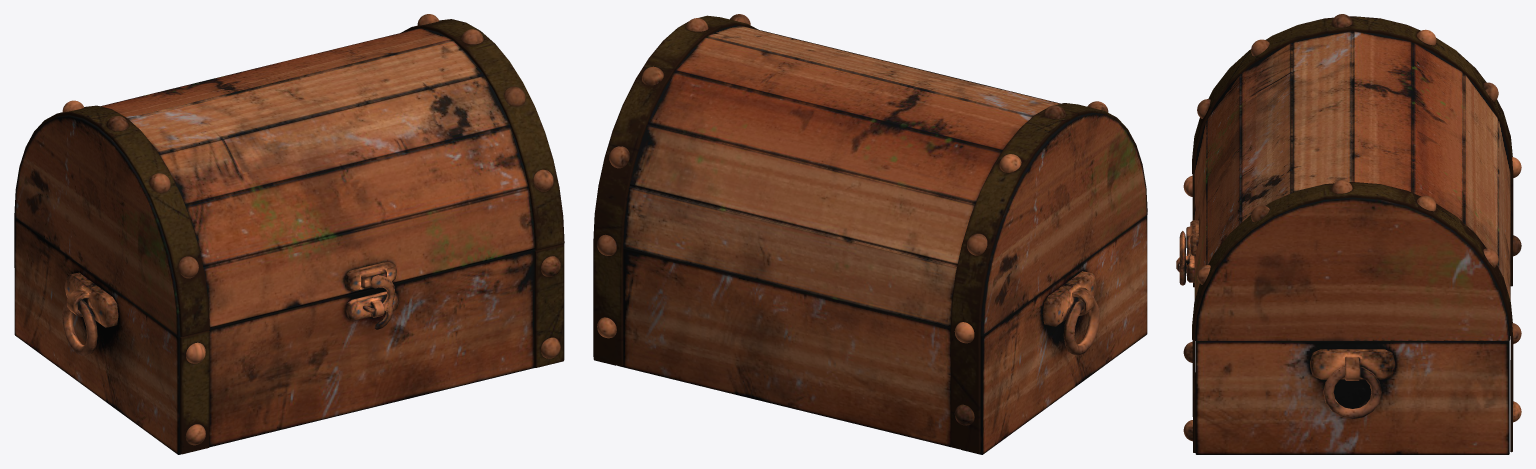
The model's file is chest.obj.
3 views of the same model, side by side, from view 1: azimuth 30°, elevation 25°; view 2: azimuth 150°, elevation 25°; view 3: azimuth 270°, elevation 25° (orthographic). The views are drawn at different scales.
Visible parts, largest first — view 1: TOP, BOTTOM, BELT, METAL; view 2: TOP, BOTTOM, BELT, METAL; view 3: TOP, BOTTOM, BELT, METAL.
Boxes of the visible parts, x1=… form: TOP: x1=14, y1=28, x2=562, y2=336; BOTTOM: x1=14, y1=217, x2=564, y2=454; BELT: x1=14, y1=19, x2=564, y2=454; METAL: x1=62, y1=14, x2=560, y2=445; TOP: x1=598, y1=25, x2=1147, y2=335; BOTTOM: x1=594, y1=215, x2=1147, y2=454; BELT: x1=593, y1=15, x2=1147, y2=453; METAL: x1=597, y1=14, x2=1108, y2=425; TOP: x1=1194, y1=31, x2=1510, y2=340; BOTTOM: x1=1195, y1=341, x2=1509, y2=454; BELT: x1=1192, y1=16, x2=1513, y2=452; METAL: x1=1176, y1=14, x2=1521, y2=441.
Size of the model in its own units: 3.84 by 2.35 by 2.75.
